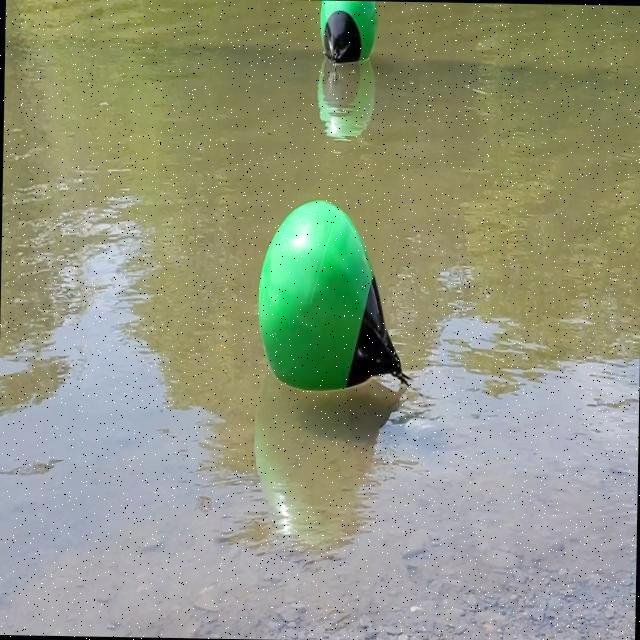buoy: (256, 198, 405, 397), (316, 0, 379, 70)
